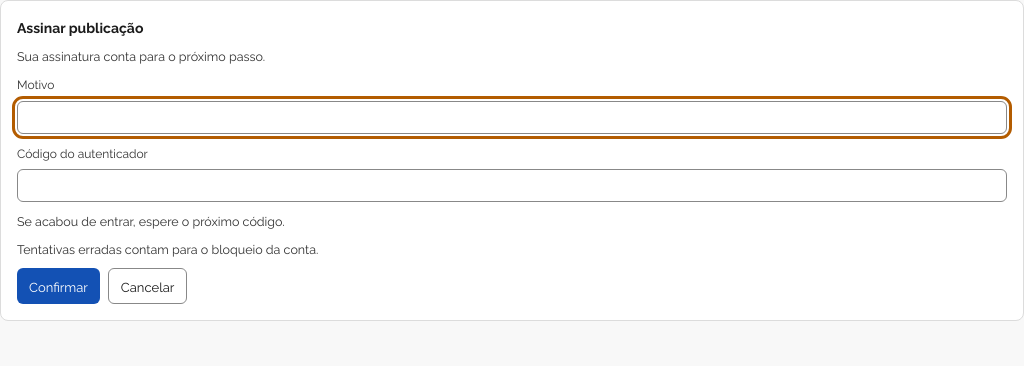
Scenario: SensitiveAction › campo obrigatório vazio e código vazio não chegam à rede
Check: the field labelled "Código do autenticador" is shown, box [17,169,1007,202]
Click the button "Confirmar" at coordinates (58, 286), box [17,268,100,304]
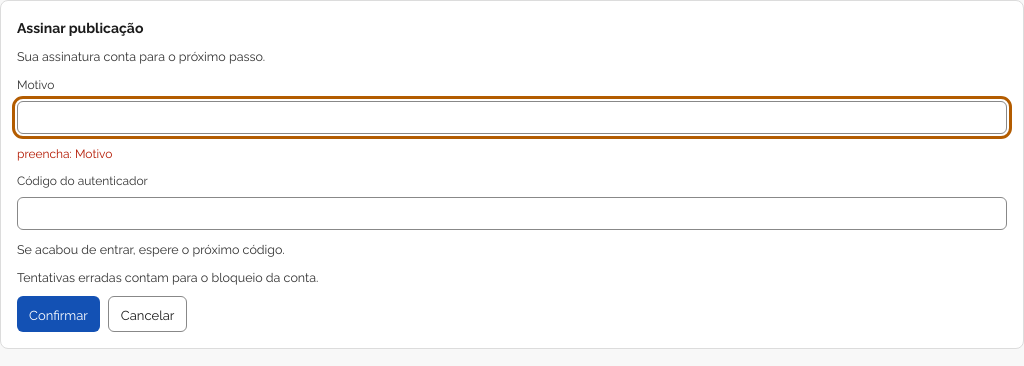
Check: the text "preencha: Motivo" is shown, box [17,144,112,161]
Type "regra errada" into the field labelled "Motivo" at coordinates (512, 117), box [17,101,1007,134]
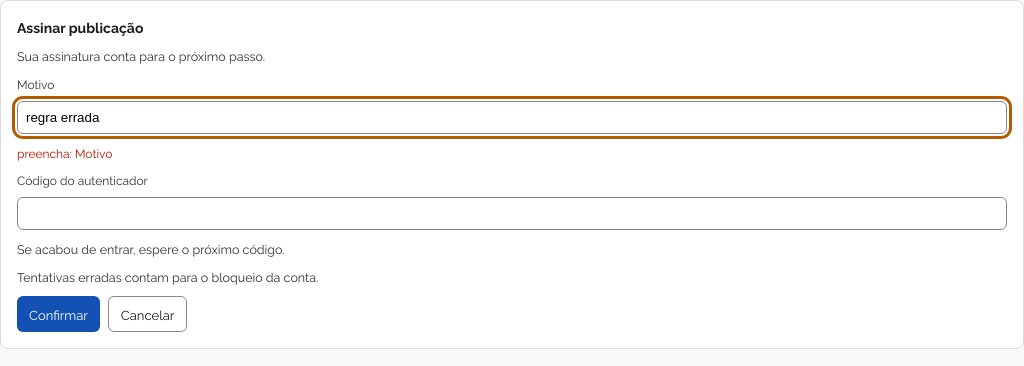
Click the button "Confirmar" at coordinates (58, 314), box [17,296,100,332]
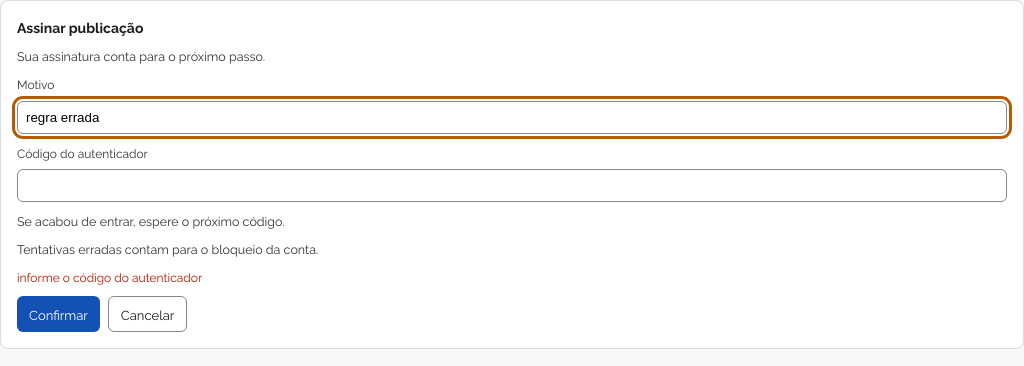
Check: the text "informe o código do autenticador" is shown, box [17,268,202,286]
